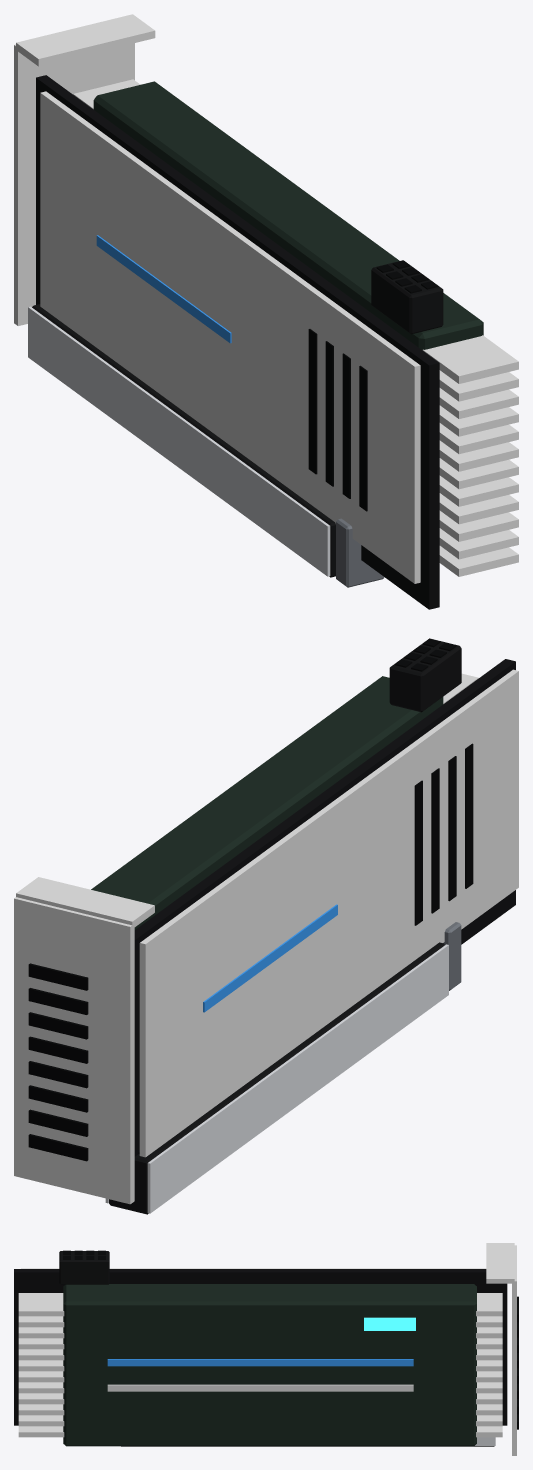
The model's file is hwm_gpu_t4.glb.
The picture shows the model from 3 angles, top to bottom: view 1: azimuth 30°, elevation 25°; view 2: azimuth 150°, elevation 25°; view 3: azimuth 270°, elevation 25°; orthographic projection. The views are drawn at different scales.
Parts seen in each view (by area): view 1: Card_0, Slot_0; view 2: Card_0, Slot_0; view 3: Card_0, Slot_0.
Part boxes in pixels (<box>): Card_0: <box>14,14,518,609</box>; Slot_0: <box>28,304,384,587</box>; Card_0: <box>14,638,518,1204</box>; Slot_0: <box>105,922,461,1214</box>; Card_0: <box>14,1243,518,1455</box>; Slot_0: <box>121,1437,495,1446</box>.
Bounding box in the file's own units: 0.0369 × 0.0916 × 0.2149.
